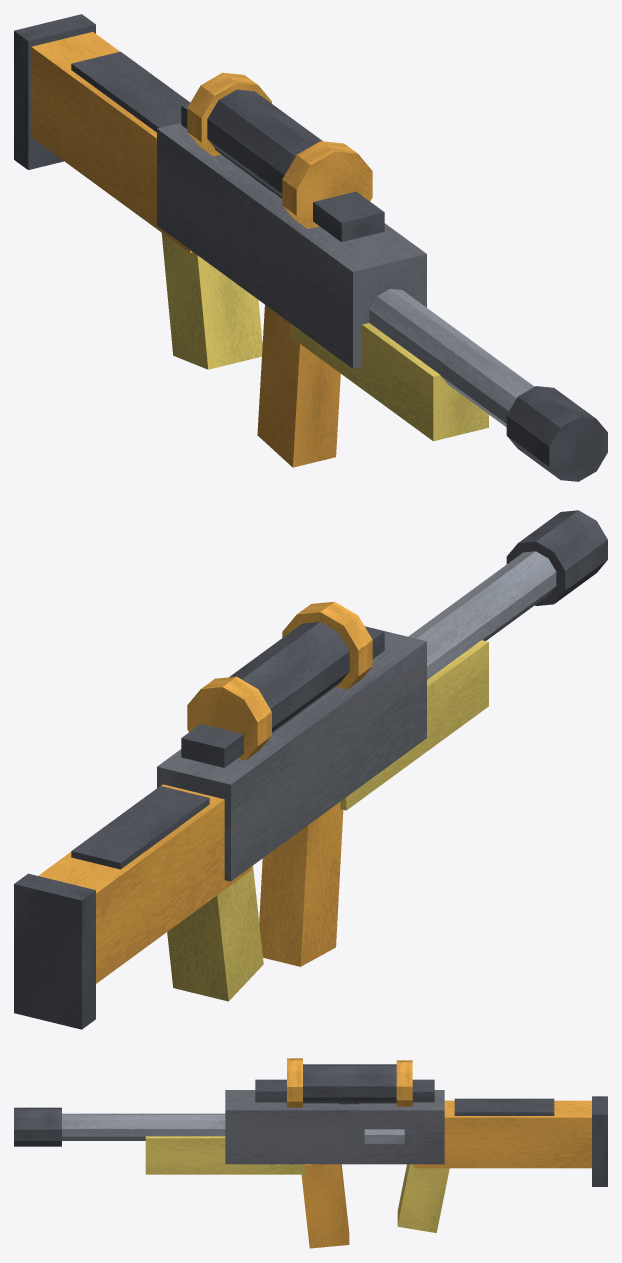
File: weapon_dmr.glb
The picture shows the model from 3 angles, top to bottom: view 1: azimuth 30°, elevation 25°; view 2: azimuth 150°, elevation 25°; view 3: azimuth 270°, elevation 25°; orthographic projection. The views are drawn at different scales.
Parts seen in each view (by area): view 1: weapon_dmr; view 2: weapon_dmr; view 3: weapon_dmr.
Part boxes in pixels (<box>): weapon_dmr: <box>14,14,607,481</box>; weapon_dmr: <box>14,510,607,1029</box>; weapon_dmr: <box>14,1058,607,1248</box>.
Size of the model in its own units: 0.3136 by 1.01 by 2.98.
1 material, 1 textured.
